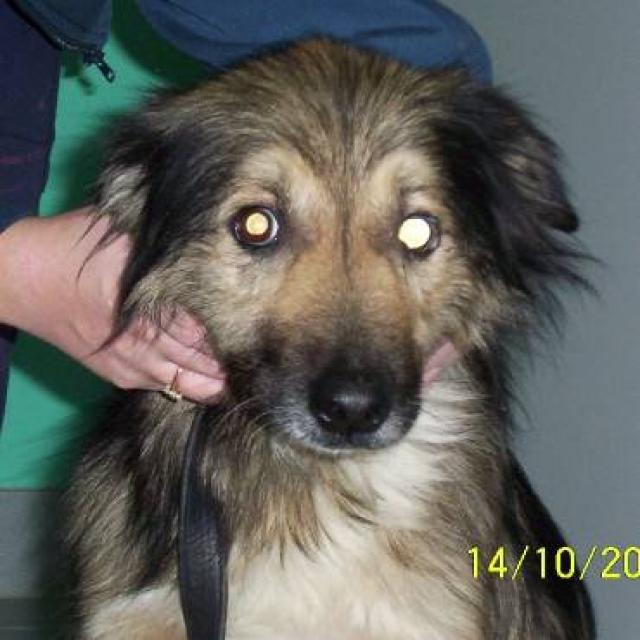dog: (45, 33, 605, 639)
